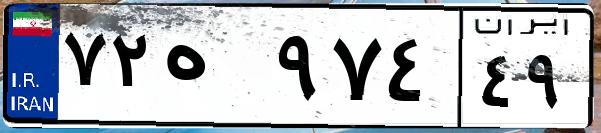2: (110, 28, 158, 98)
4: (385, 28, 445, 110), (475, 38, 525, 113)
7: (330, 28, 385, 110), (57, 26, 110, 100)
9: (270, 28, 330, 110), (525, 38, 570, 115)
ه: (158, 20, 270, 120)
